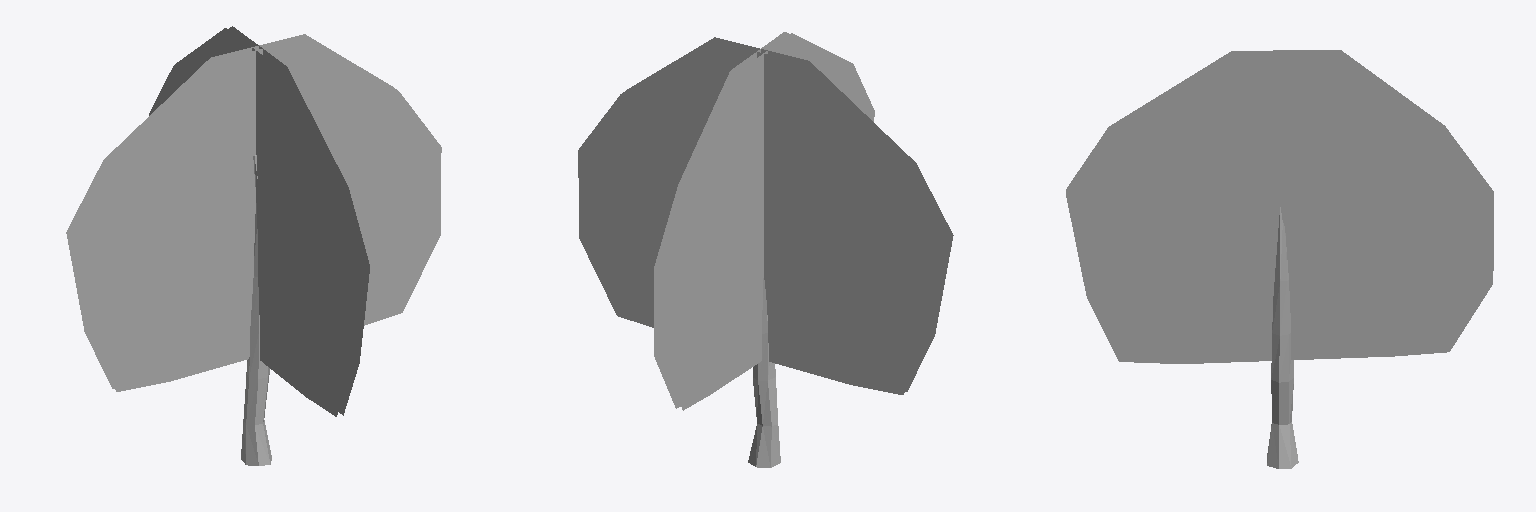
File: tree_001.obj
3 renders of one model, left to right at view 1: azimuth 30°, elevation 25°; view 2: azimuth 150°, elevation 25°; view 3: azimuth 270°, elevation 25°, orthographic.
Visible parts, largest first — view 1: tree.001; view 2: tree.001; view 3: tree.001.
Boxes of the visible parts, x1,y1,x2,y2 form: tree.001: [66, 26, 441, 465]; tree.001: [578, 32, 953, 467]; tree.001: [1066, 50, 1493, 468].
Size of the model in its own units: 5.37 by 5.69 by 5.37.